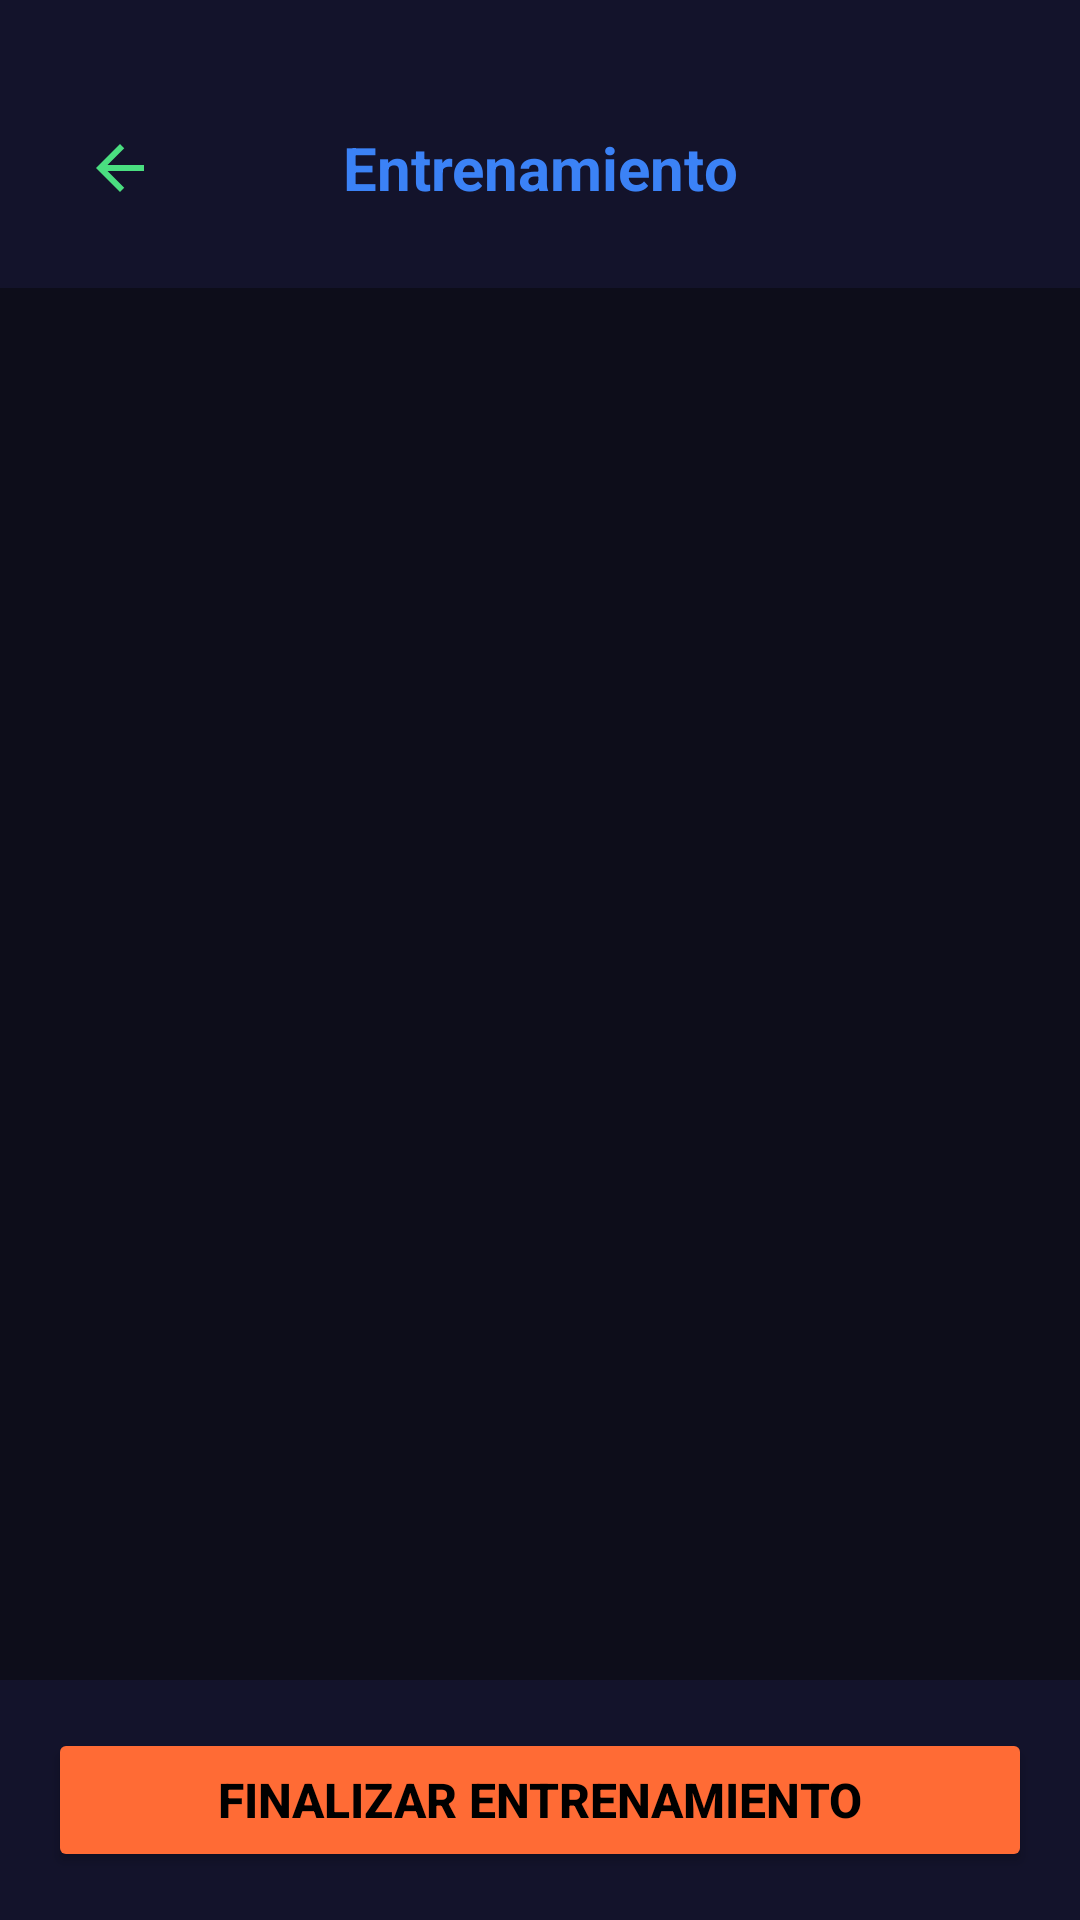

Named icons in this screenshot (1080w x 1920h) and their centers, [x,y]:
Volver: [120,168]
